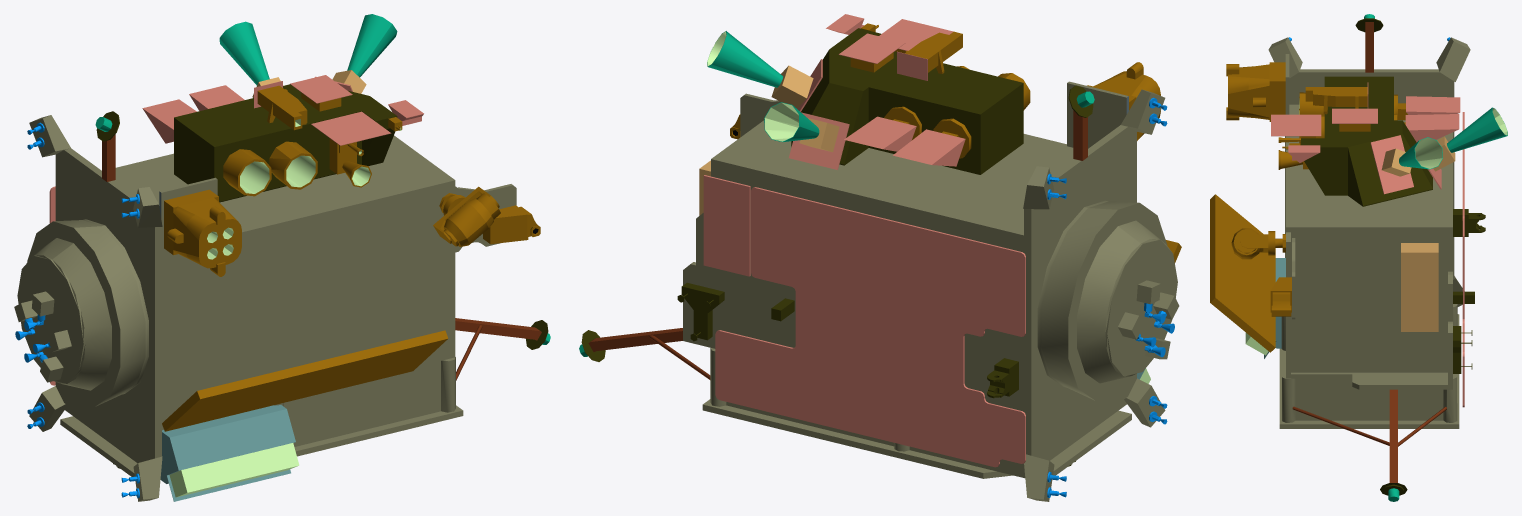
File: LRO_Main_Body.obj
3 renders of one model, left to right at view 1: azimuth 30°, elevation 25°; view 2: azimuth 150°, elevation 25°; view 3: azimuth 270°, elevation 25°, orthographic. The views are drawn at different scales.
Visible parts, largest first — view 1: Main_Body_MTL0, Main_Body_MTL7, Main_Body_MTL1, Main_Body_MTL9, Main_Body_MTL11, Main_Body_MTL6, Main_Body_MTL3, Main_Body_MTL2, Main_Body_MTL4, Main_Body_MTL8; view 2: Main_Body_MTL0, Main_Body_MTL11, Main_Body_MTL1, Main_Body_MTL7, Main_Body_MTL3, Main_Body_MTL2, Main_Body_MTL8, Main_Body_MTL4, Main_Body_MTL6; view 3: Main_Body_MTL0, Main_Body_MTL7, Main_Body_MTL1, Main_Body_MTL11, Main_Body_MTL8, Main_Body_MTL2, Main_Body_MTL3, Main_Body_MTL6, Main_Body_MTL9.
Part boxes in pixels (x1,y1,x2,y2): Main_Body_MTL0: [14, 115, 516, 501]; Main_Body_MTL7: [162, 85, 540, 431]; Main_Body_MTL1: [96, 84, 548, 468]; Main_Body_MTL9: [160, 405, 295, 501]; Main_Body_MTL11: [49, 75, 423, 385]; Main_Body_MTL6: [169, 119, 401, 497]; Main_Body_MTL3: [95, 14, 550, 344]; Main_Body_MTL2: [102, 134, 541, 380]; Main_Body_MTL4: [15, 122, 139, 498]; Main_Body_MTL8: [252, 70, 366, 97]; Main_Body_MTL0: [683, 81, 1179, 501]; Main_Body_MTL11: [703, 14, 1025, 467]; Main_Body_MTL1: [581, 28, 1093, 466]; Main_Body_MTL7: [730, 23, 1181, 262]; Main_Body_MTL3: [579, 31, 1094, 356]; Main_Body_MTL2: [588, 110, 1087, 379]; Main_Body_MTL8: [699, 65, 839, 215]; Main_Body_MTL4: [1047, 97, 1174, 497]; Main_Body_MTL6: [707, 31, 1150, 383]; Main_Body_MTL0: [1268, 37, 1470, 428]; Main_Body_MTL7: [1210, 62, 1407, 352]; Main_Body_MTL1: [1301, 18, 1485, 495]; Main_Body_MTL11: [1271, 82, 1464, 407]; Main_Body_MTL8: [1381, 136, 1455, 331]; Main_Body_MTL2: [1292, 22, 1446, 482]; Main_Body_MTL3: [1364, 14, 1507, 501]; Main_Body_MTL6: [1245, 98, 1507, 355]; Main_Body_MTL9: [1264, 258, 1285, 358].
Size of the model in its own units: 4.04 by 2.59 by 2.28.
